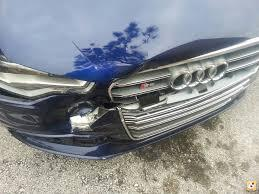Bonnet: (35, 19, 257, 83)
Bumper: (0, 89, 204, 160)
